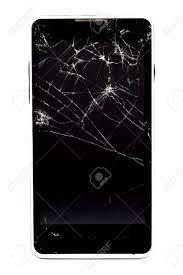Crack: (32, 21, 150, 95), (32, 94, 148, 163)
